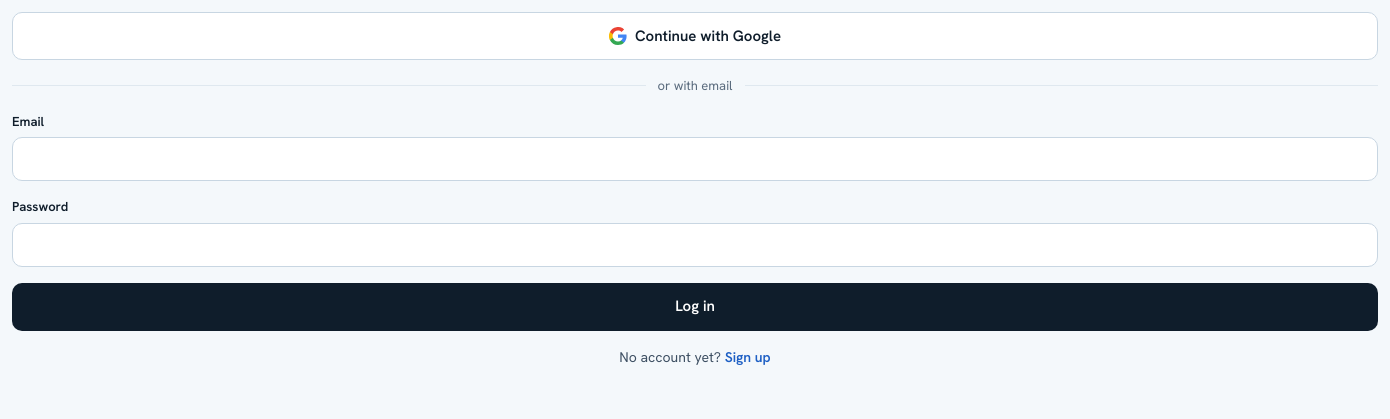
Test: LoginForm › renders a Supabase error inline, not as a toast
Step 1. Type "a@b.com" into the field labelled "Email" → {"x": 695, "y": 159}, box x1=12 y1=137 x2=1378 y2=181
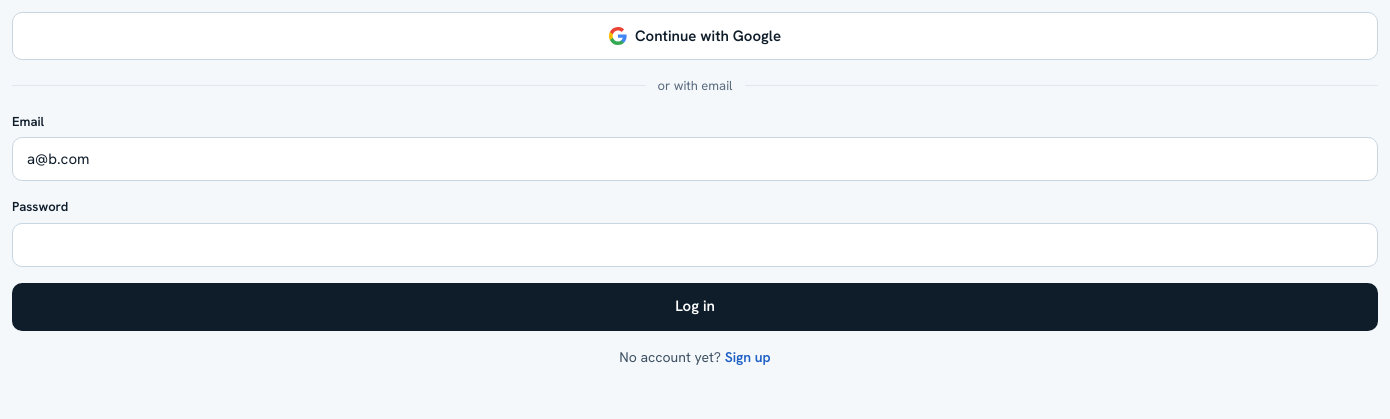
Step 2. Type "wrong" into the password field labelled "Password" → {"x": 695, "y": 244}, box x1=12 y1=222 x2=1378 y2=266
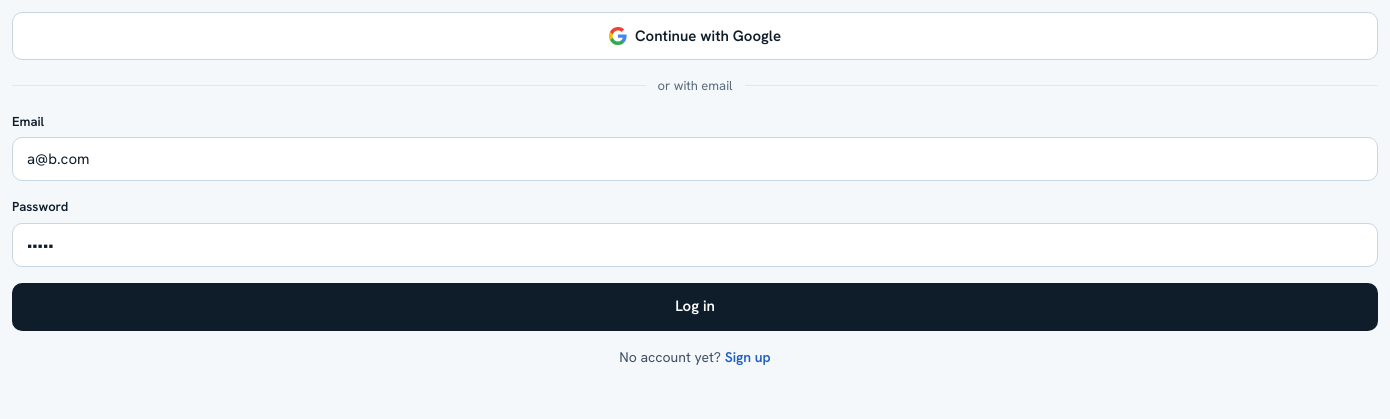
Step 3. Click the button "Log in" → {"x": 695, "y": 306}, box x1=12 y1=282 x2=1378 y2=330
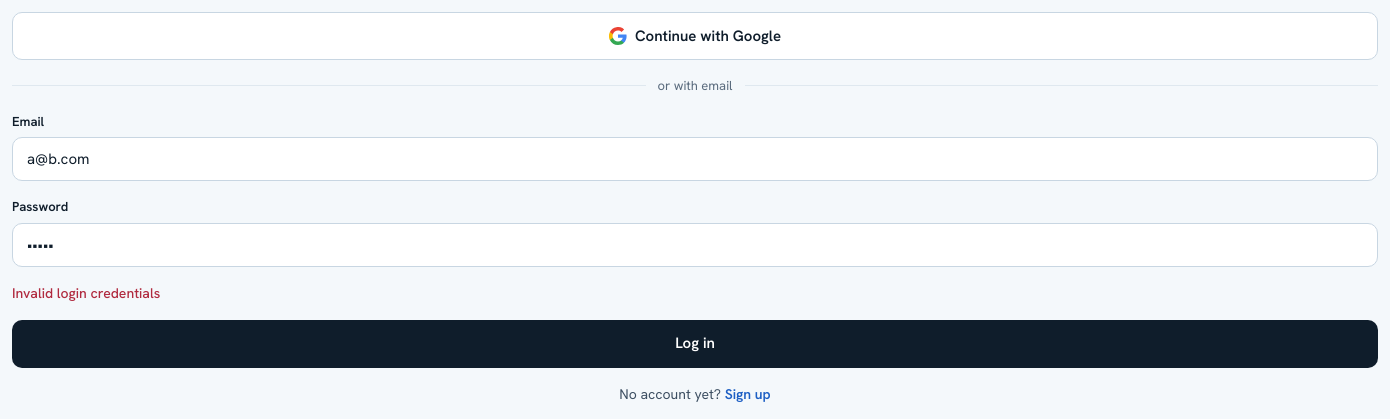
Expected: the message reads "Invalid login credentials", x1=12 y1=284 x2=160 y2=302
